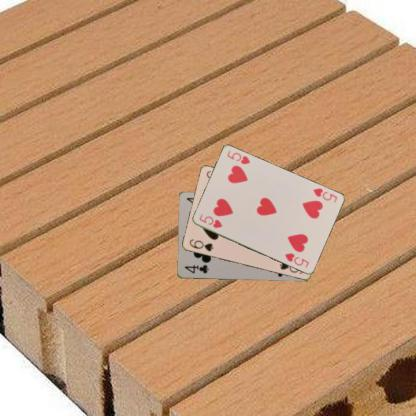4c: (182, 262, 210, 274)
5h: (196, 211, 224, 230), (310, 185, 338, 204)
6s: (187, 236, 214, 252)
